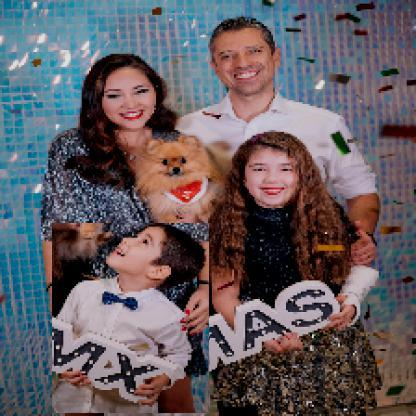child: (53, 224, 211, 415)
